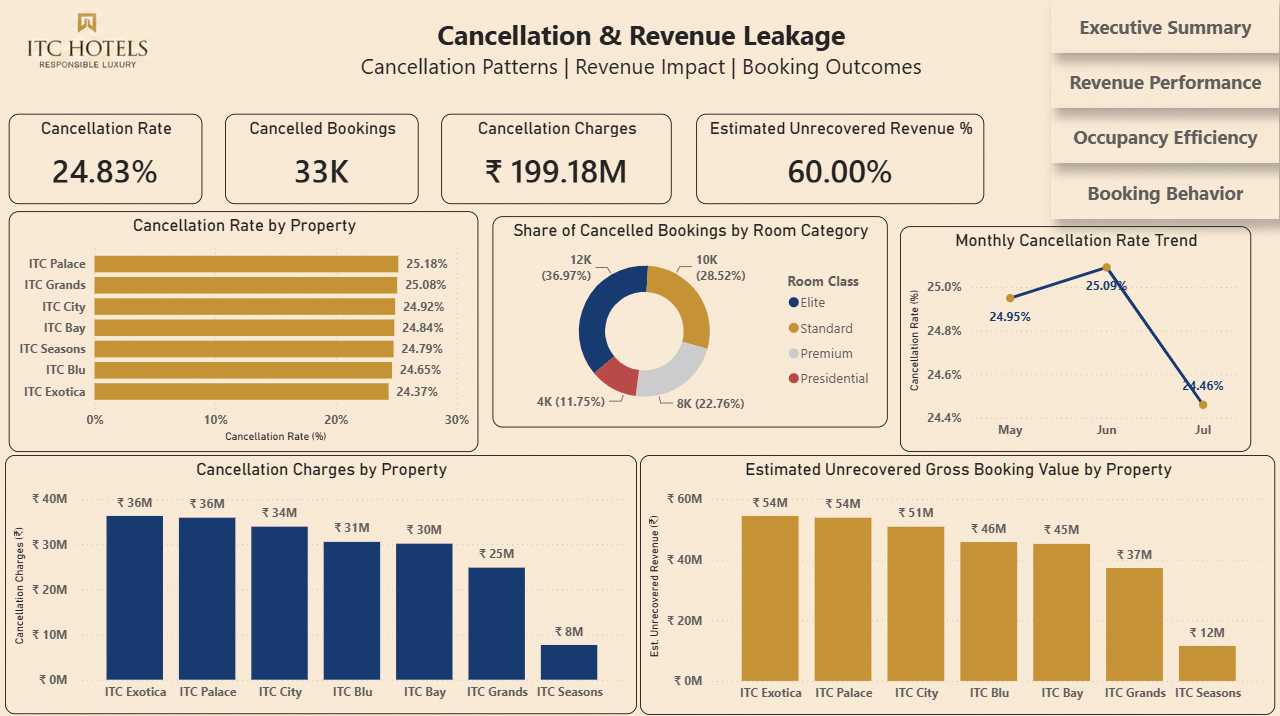

The dashboard page shown, as its layout file describes it:
{"tool":"powerbi","page":{"name":"Cancellation & Revenue Leakage","canvas":[1280,720],"ordinal":4},"visuals":[{"type":"textbox","box":[341.1,11,600,78.5],"z":0},{"type":"cardVisual","title":"Cancellation Rate","fields":{"Data":["A measures.Cancellation Rate"]},"box":[8.6,114.1,193.9,90.8],"z":1000},{"type":"cardVisual","title":"Cancelled Bookings","fields":{"Data":["A measures.Cancelled Bookings"]},"box":[224.5,114.1,193.9,90.8],"z":2000},{"type":"cardVisual","title":"Cancellation Charges","fields":{"Data":["A measures.Cancellation Charges"]},"box":[441.7,114.1,230.7,90.8],"z":3000},{"type":"cardVisual","title":"Estimated Unrecovered Revenue %","fields":{"Data":["A measures.Lost Revenue %"]},"box":[695.7,114.1,288.3,90.8],"z":4000},{"type":"clusteredBarChart","title":"Cancellation Rate by Property","fields":{"Category":["hotels.Property Name"],"Y":["A measures.Cancellation Rate"]},"box":[8.6,211,469.9,240.5],"z":5000},{"type":"lineChart","title":"Monthly Cancellation Rate Trend","fields":{"Category":["Date Table.MonthName"],"Y":["A measures.Cancellation Rate"]},"box":[899.4,225.8,350.9,225.8],"z":6000},{"type":"clusteredColumnChart","title":"Cancellation Charges by Property","fields":{"Category":["hotels.Property Name"],"Y":["A measures.Cancellation Charges"]},"box":[4.9,455.2,631.9,258.9],"z":7000},{"type":"clusteredColumnChart","title":"Estimated Unrecovered Gross Booking Value by Property","fields":{"Category":["hotels.Property Name"],"Y":["A measures.Estimated Unrecovered Revenue"]},"box":[640.5,455.2,635.6,260.1],"z":8000},{"type":"donutChart","title":"Share of Cancelled Bookings by Room Category","fields":{"Category":["rooms.Room Class"],"Y":["A measures.Cancelled Bookings"]},"box":[492,216,395.1,211],"z":9000},{"type":"actionButton","box":[1051.5,0,228.2,52.8],"z":10000},{"type":"actionButton","box":[1051.5,55.2,228.2,52.8],"z":11000},{"type":"actionButton","box":[1051.5,110.4,228.2,52.8],"z":12000},{"type":"actionButton","box":[1051.5,165.6,228.2,52.8],"z":13000}]}

Visuals, with their boxes in screenshot pixels (x1, y1, x2, y2), scaled from the page's 1280x720 canvas onto the 1280x716 screenshot:
textbox: BBox(341, 11, 941, 89)
"Cancellation Rate" cardVisual: BBox(9, 113, 202, 204)
"Cancelled Bookings" cardVisual: BBox(224, 113, 418, 204)
"Cancellation Charges" cardVisual: BBox(442, 113, 672, 204)
"Estimated Unrecovered Revenue %" cardVisual: BBox(696, 113, 984, 204)
"Cancellation Rate by Property" clusteredBarChart: BBox(9, 210, 478, 449)
"Monthly Cancellation Rate Trend" lineChart: BBox(899, 225, 1250, 449)
"Cancellation Charges by Property" clusteredColumnChart: BBox(5, 453, 637, 710)
"Estimated Unrecovered Gross Booking Value by Property" clusteredColumnChart: BBox(640, 453, 1276, 711)
"Share of Cancelled Bookings by Room Category" donutChart: BBox(492, 215, 887, 425)
actionButton: BBox(1052, 0, 1279, 53)
actionButton: BBox(1052, 55, 1279, 107)
actionButton: BBox(1052, 110, 1279, 162)
actionButton: BBox(1052, 165, 1279, 217)
